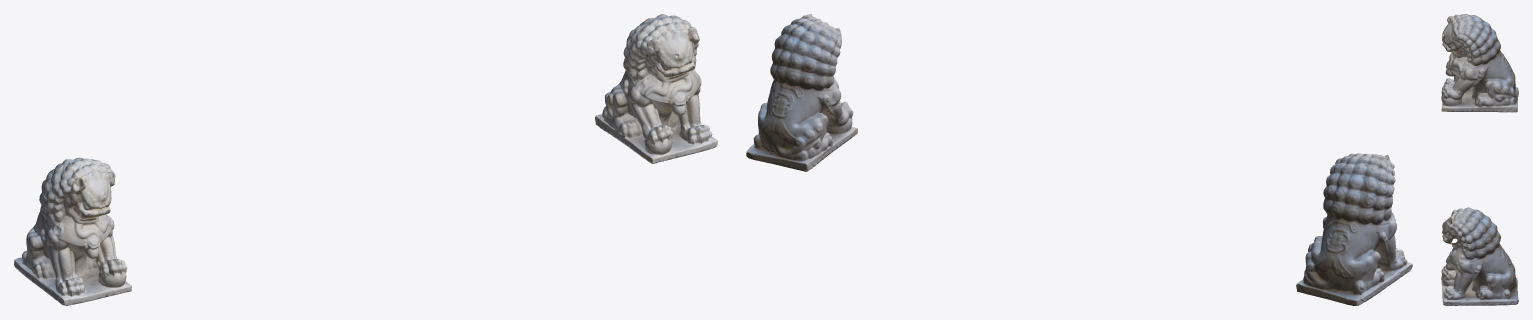
Rendered from guardian-lions.glb.
3 views of the same model, side by side, from view 1: azimuth 30°, elevation 25°; view 2: azimuth 150°, elevation 25°; view 3: azimuth 270°, elevation 25° (orthographic). The views are drawn at different scales.
Parts seen in each view (by area): view 1: Guardian | east scanned lion, Guardian | west mirrored lion; view 2: Guardian | west mirrored lion, Guardian | east scanned lion; view 3: Guardian | west mirrored lion, Guardian | east scanned lion.
Boxes of the visible parts, box(x1,y1,x2,y2) form: Guardian | east scanned lion: box(595, 14, 717, 163); Guardian | west mirrored lion: box(14, 157, 131, 305); Guardian | west mirrored lion: box(1296, 153, 1412, 305); Guardian | east scanned lion: box(746, 14, 857, 171); Guardian | west mirrored lion: box(1441, 14, 1518, 112); Guardian | east scanned lion: box(1441, 207, 1518, 305).
Bounding box in the file's own units: 8.06 × 1.46 × 1.22.
Materials: 1 (1 with a texture image).
